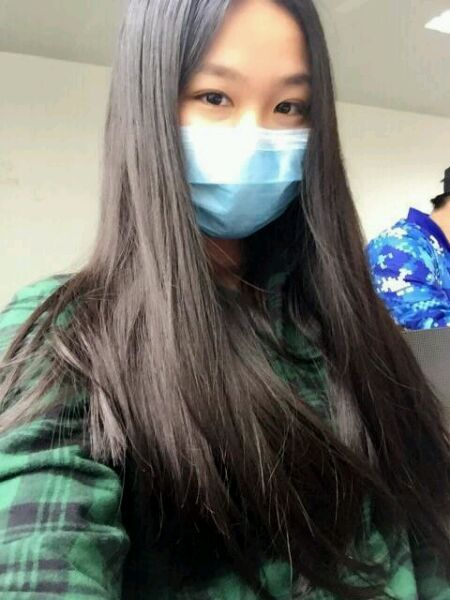face_mask: (168, 1, 317, 230)
